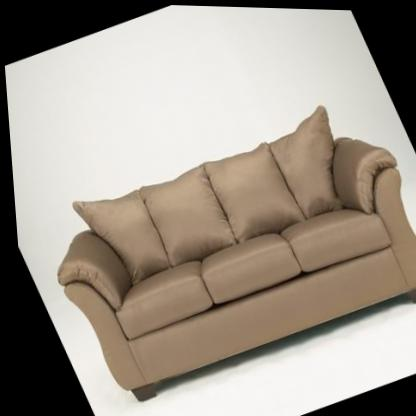Sofa: (14, 79, 416, 416)
